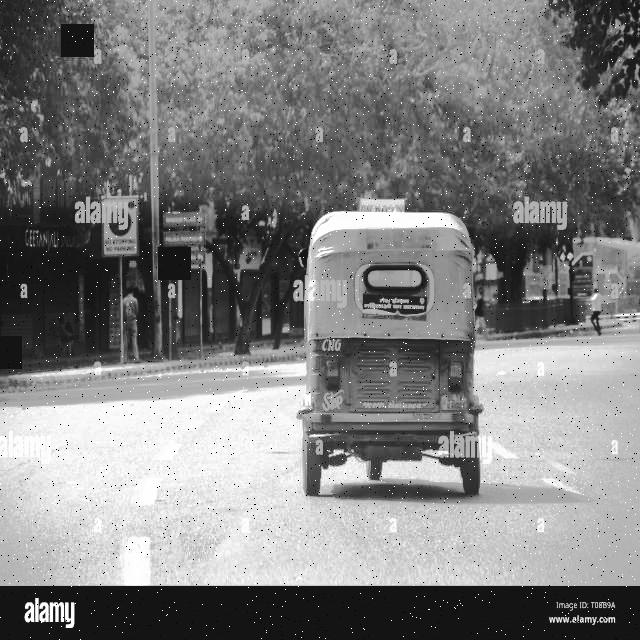Auto-Rickshaw: (301, 184, 513, 529)
